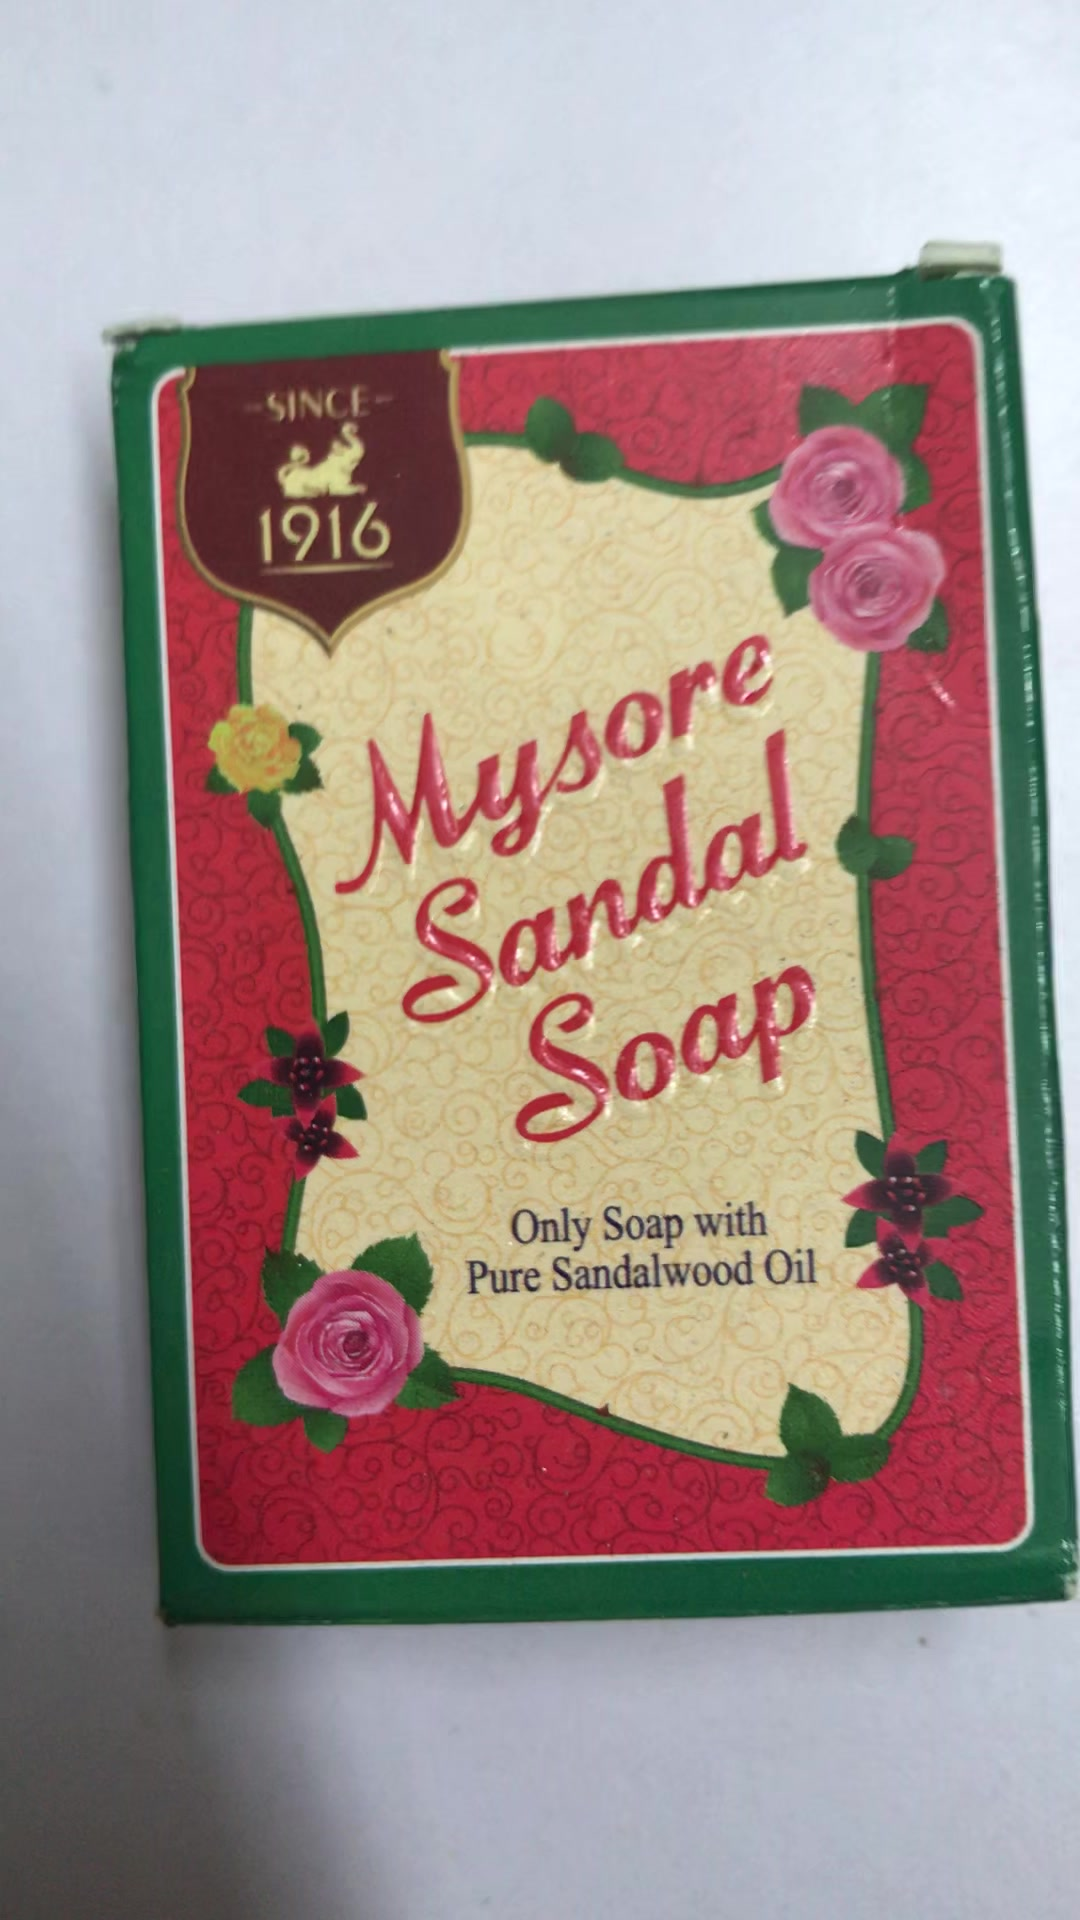mysore sandal soap: (131, 284, 1080, 1607)
